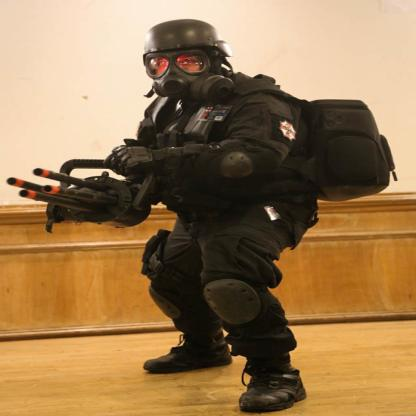Helmet: (141, 21, 234, 97)
